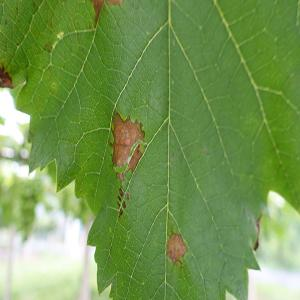Folha: (0, 1, 300, 299)
Fungo: (111, 115, 146, 173), (88, 0, 124, 26), (166, 232, 186, 267), (128, 143, 145, 176), (117, 188, 130, 220), (252, 214, 262, 251), (0, 60, 13, 88), (296, 0, 300, 35), (117, 187, 124, 206), (115, 170, 125, 183), (118, 186, 124, 196), (116, 194, 122, 204), (126, 189, 130, 200), (119, 208, 123, 218), (122, 200, 126, 208), (117, 200, 121, 207)
